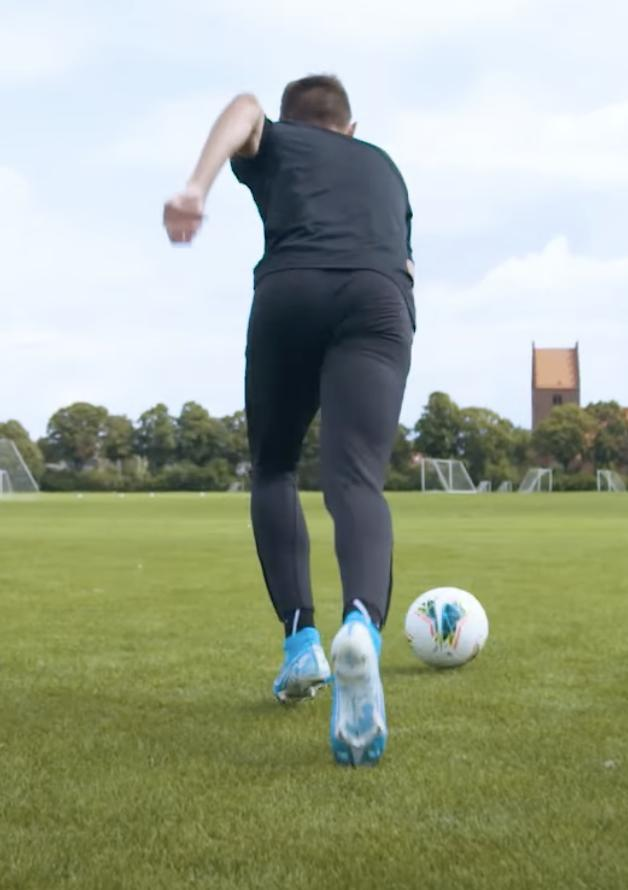ball: (407, 587, 488, 670)
foot: (324, 612, 388, 768), (274, 623, 330, 705)
person: (165, 72, 415, 768)
